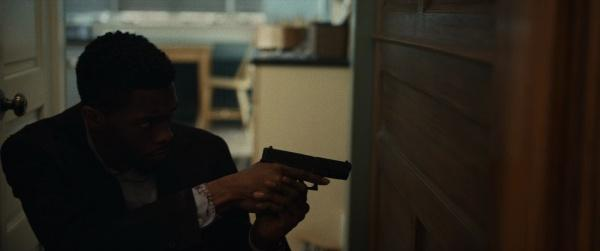Gun: (259, 146, 350, 191)
